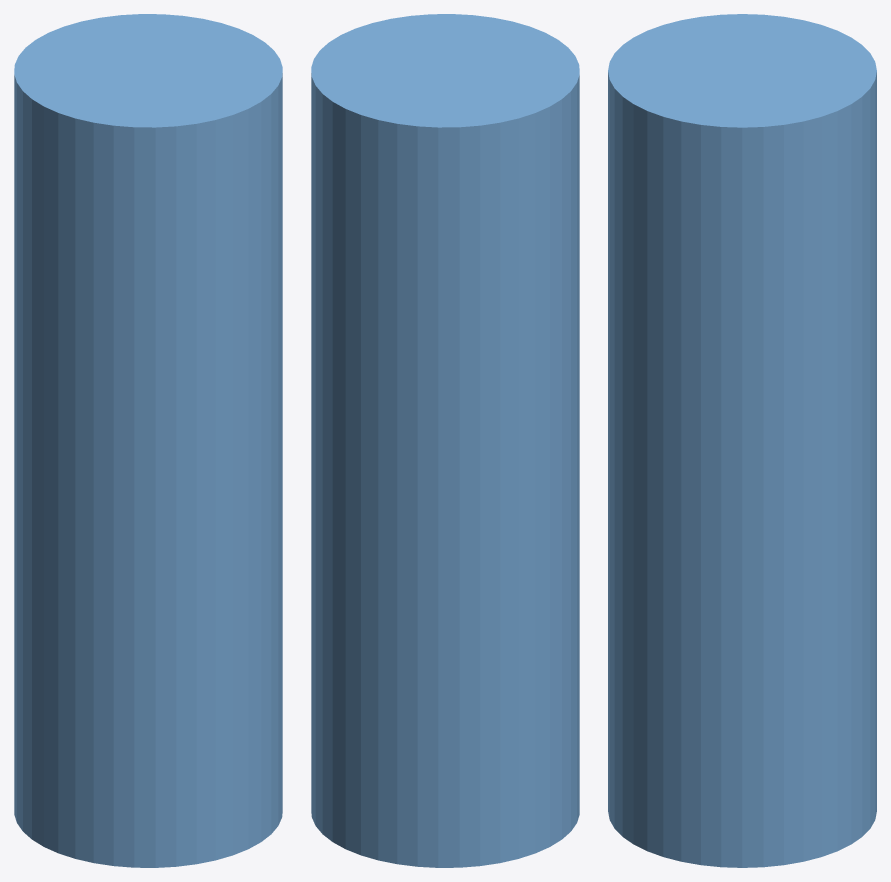
Rendered from rec_pet_bottle_0012.glb.
3 views of the same model, side by side, from view 1: azimuth 30°, elevation 25°; view 2: azimuth 150°, elevation 25°; view 3: azimuth 270°, elevation 25° (orthographic).
Visible parts, largest first — view 1: z-up-to-y-up; view 2: z-up-to-y-up; view 3: z-up-to-y-up.
Boxes of the visible parts, x1,y1,x2,y2 form: z-up-to-y-up: (14, 14, 282, 867); z-up-to-y-up: (311, 14, 579, 867); z-up-to-y-up: (608, 14, 876, 867).
Bounding box in the file's own units: 0.0736 × 0.2236 × 0.0736.
